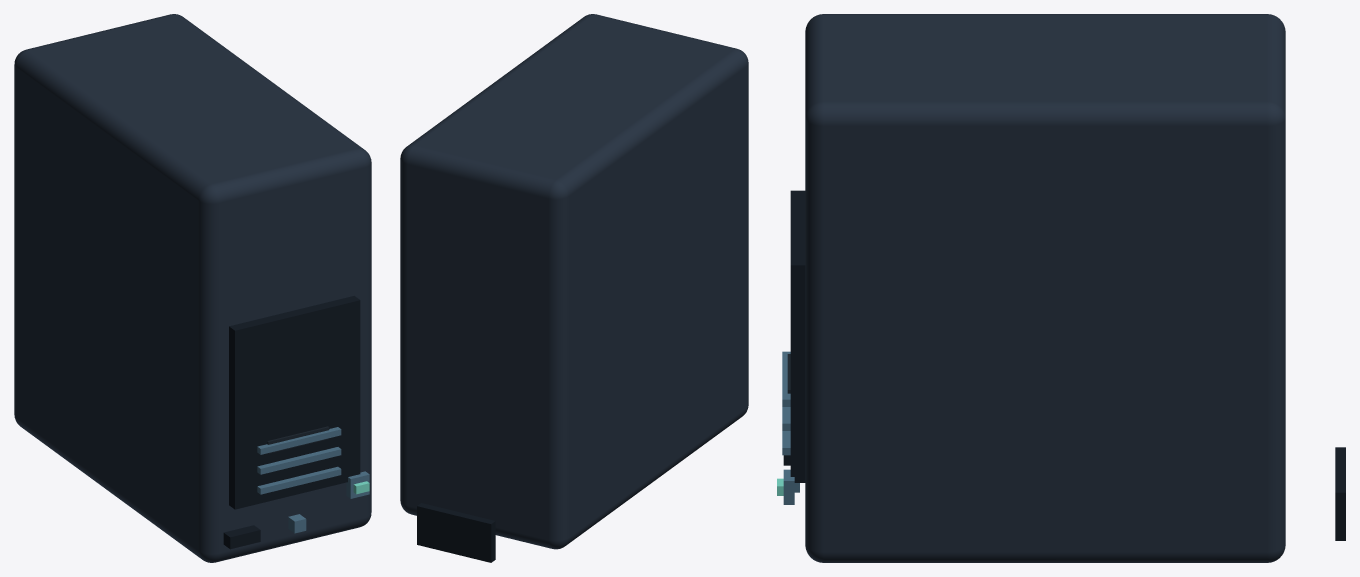
The picture shows the model from 3 angles, left to right: view 1: azimuth 30°, elevation 25°; view 2: azimuth 150°, elevation 25°; view 3: azimuth 270°, elevation 25°; orthographic projection. The views are drawn at different scales.
Parts seen in each view (by area): view 1: computer-body, front-bay, vent-0.095, vent-0.075, vent-0.115, computer-detail; view 2: computer-body, power-port-back; view 3: computer-body, front-bay, power-port-back.
Boxes of the visible parts, left/top/right/bottom form: computer-body: left=14, top=14, right=371, bottom=562; front-bay: left=229, top=296, right=360, bottom=509; vent-0.095: left=257, top=447, right=341, bottom=474; vent-0.075: left=257, top=466, right=341, bottom=494; vent-0.115: left=257, top=427, right=341, bottom=454; computer-detail: left=223, top=525, right=260, bottom=549; computer-body: left=400, top=14, right=748, bottom=549; power-port-back: left=417, top=503, right=495, bottom=562; computer-body: left=805, top=14, right=1285, bottom=562; front-bay: left=790, top=190, right=805, bottom=482; power-port-back: left=1335, top=447, right=1345, bottom=540.
Size of the model in its own units: 0.18 by 0.38 by 0.426.
